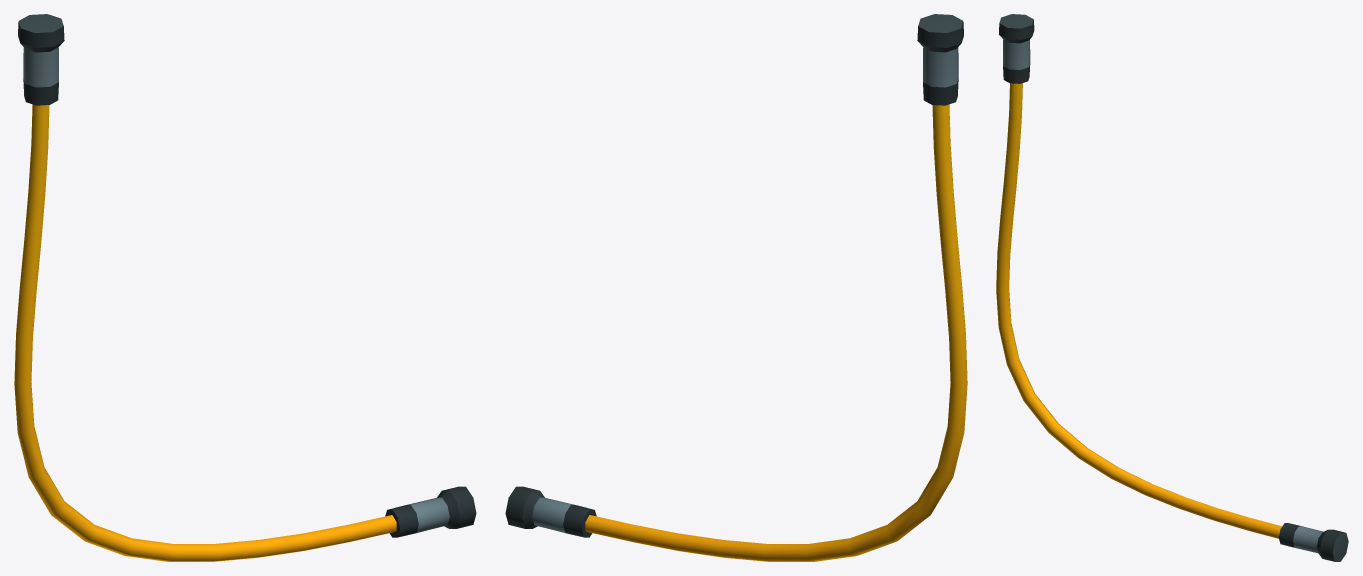
File: Cable_type_C_007.glb
3 views of the same model, side by side, from view 1: azimuth 30°, elevation 25°; view 2: azimuth 150°, elevation 25°; view 3: azimuth 330°, elevation 25° (orthographic). The views are drawn at different scales.
Parts seen in each view (by area): view 1: Cable_type_C_007; view 2: Cable_type_C_007; view 3: Cable_type_C_007.
Boxes of the visible parts, x1,y1,x2,y2 form: Cable_type_C_007: [14, 14, 476, 561]; Cable_type_C_007: [505, 14, 967, 561]; Cable_type_C_007: [996, 14, 1348, 561].
Bounding box in the file's own units: 0.9655 × 1.23 × 0.0891.
1 material, 1 textured.
